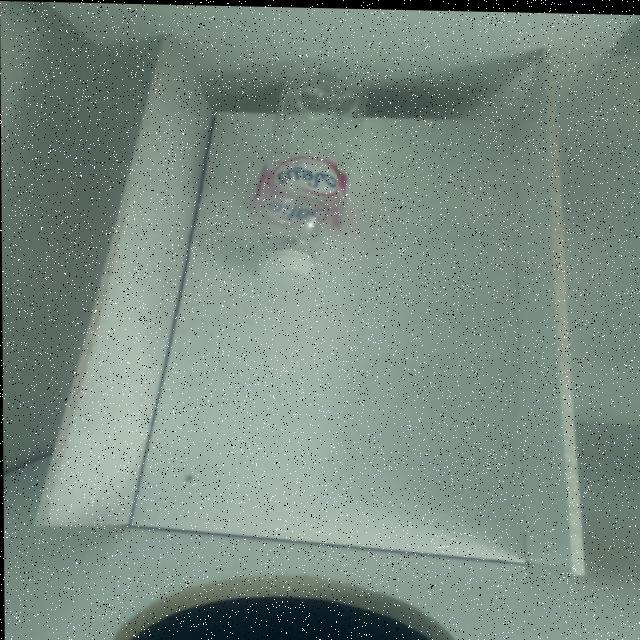plasticbottle: (267, 61, 338, 278)
